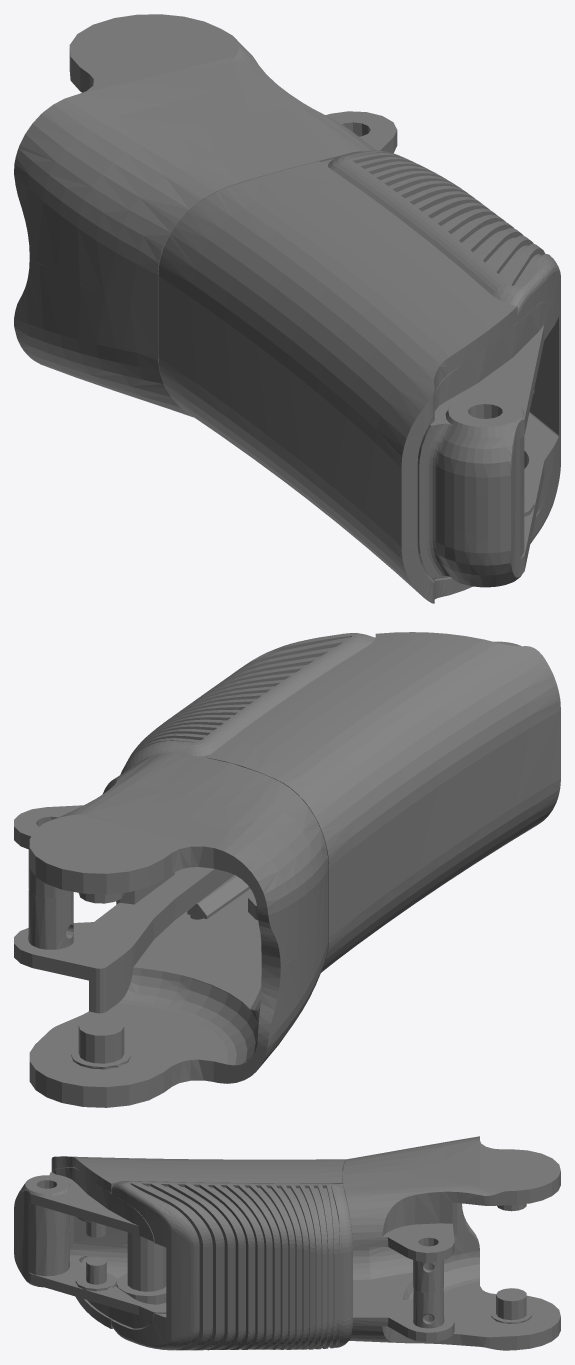
The model's file is rh_middle_proximal_vis.obj.
The picture shows the model from 3 angles, top to bottom: view 1: azimuth 30°, elevation 25°; view 2: azimuth 150°, elevation 25°; view 3: azimuth 270°, elevation 25°; orthographic projection. The views are drawn at different scales.
Parts seen in each view (by area): view 1: rh_middle_proximal; view 2: rh_middle_proximal; view 3: rh_middle_proximal.
Part boxes in pixels (x1,y1,x2,y2): rh_middle_proximal: (14,14,560,603); rh_middle_proximal: (14,632,560,1107); rh_middle_proximal: (14,1136,560,1350).
Bounding box in the file's own units: 0.0218 × 0.017 × 0.0528.
1 material, 1 textured.
